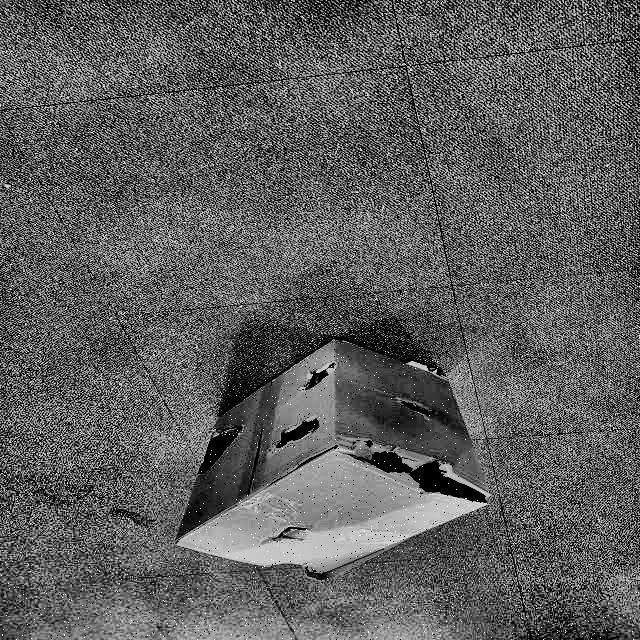box: (169, 326, 505, 594)
hole: (338, 446, 490, 512), (194, 421, 247, 472), (271, 416, 319, 451), (264, 520, 312, 549), (297, 362, 340, 392), (393, 398, 440, 422)
